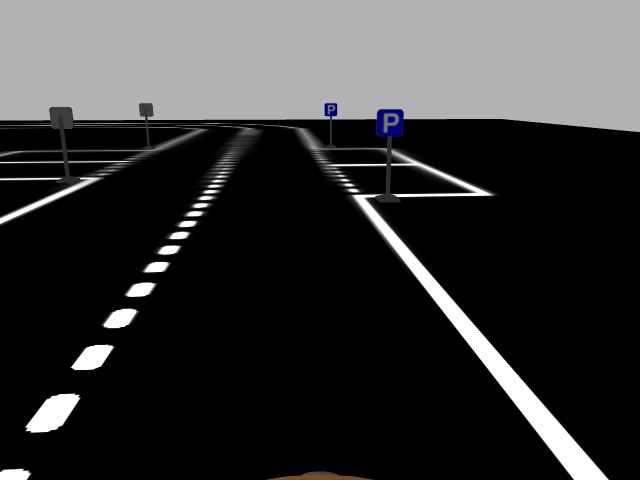parking: (376, 109, 404, 136), (324, 103, 337, 116)
